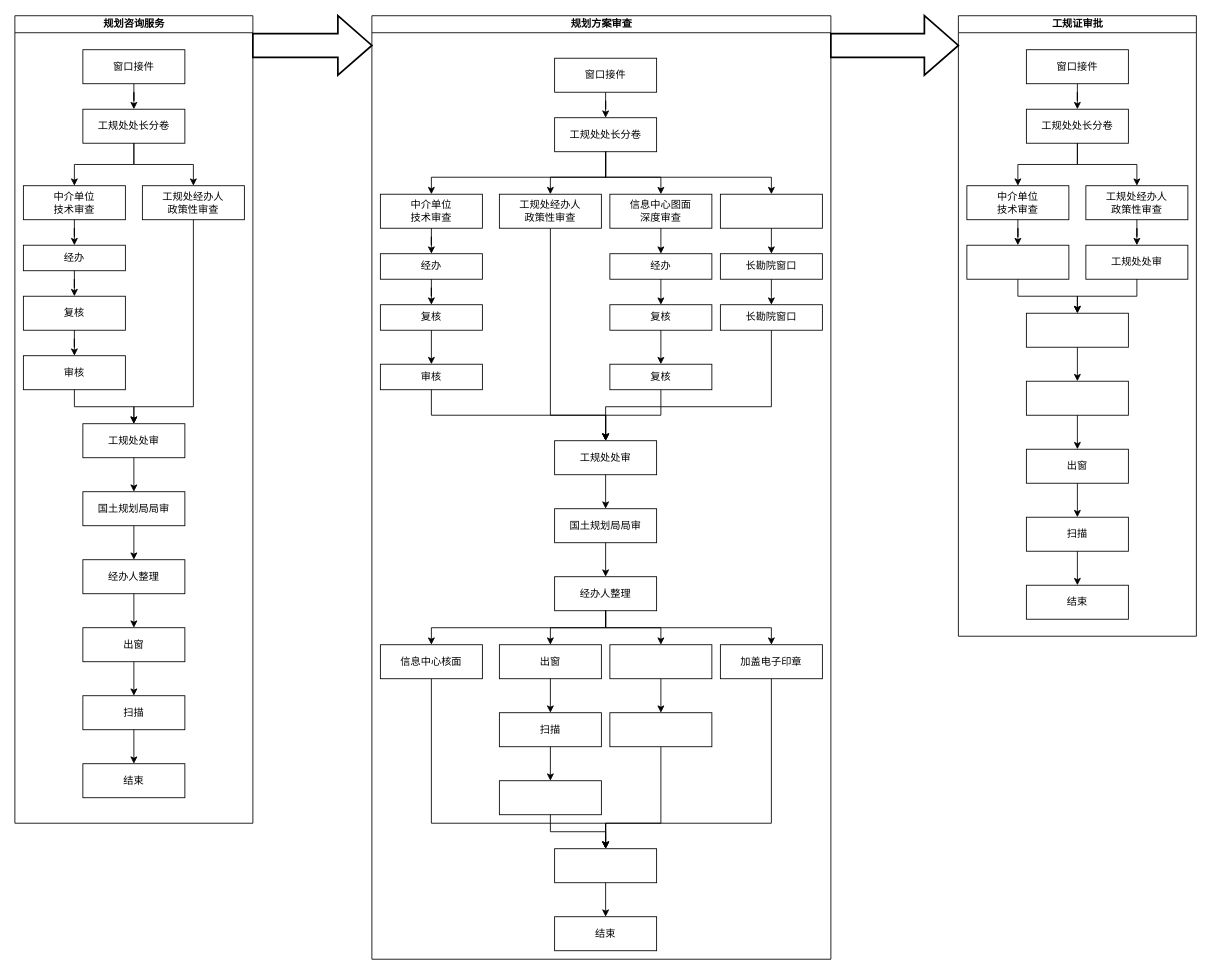
Image size: 1211x974. Some labels were removed from this diagram. The centre of each missing label's shape, as x and y in pixels:
中介机构经办: the point at 1017,261
工规处经办人整理: the point at 1077,329
批后公布: the point at 550,797
经办人意见汇总: the point at 605,865
行政审批出意见: the point at 1077,397
长勘院放线: the point at 660,661
长勘院放线 图纸预审: the point at 771,210
长勘院放线窗口: the point at 660,729
